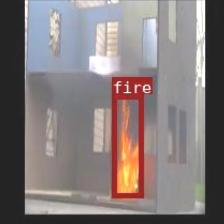fire: (111, 94, 142, 197)
